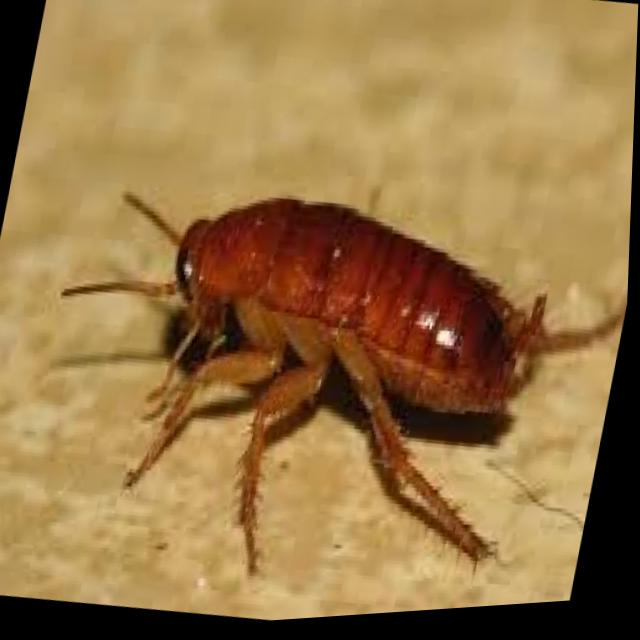Cockroach: (0, 120, 636, 639)
